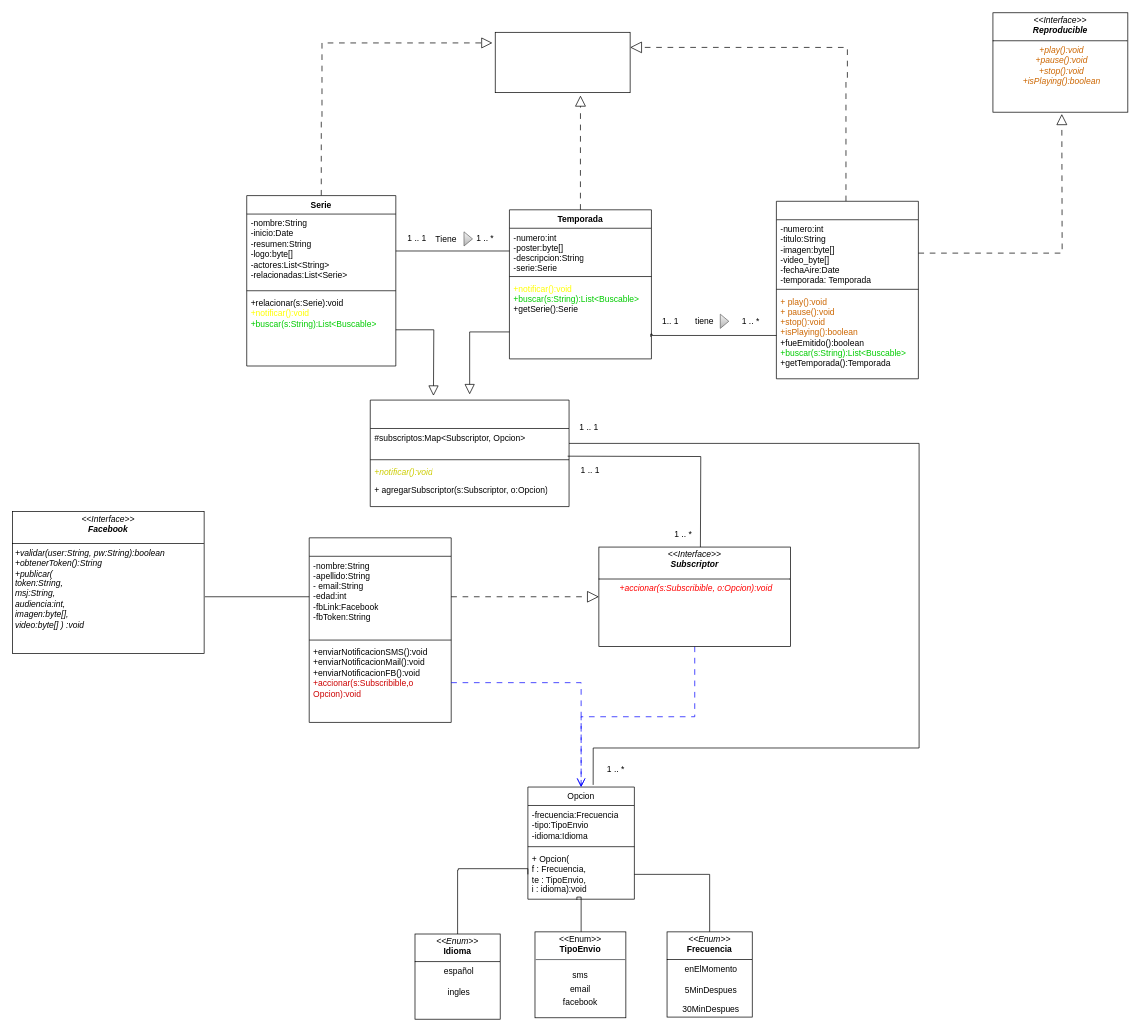
This 1140x1032 diagram has some shape labels left out. The shapes that lost their labels are listed below. From the top down, each one's box as (x1, y1, x2, y2) in pixels, then its label:
(495, 32, 630, 93): <<Interface>> Buscable +buscar(s:String):List<Buscable>
(776, 201, 918, 379): Episodio
(370, 399, 569, 507): <<Abstract>> Subscribible
(308, 537, 451, 722): Usuario
